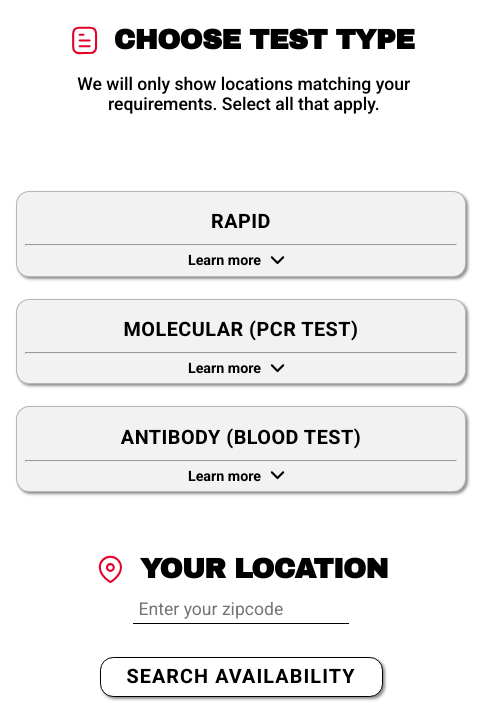
Scenario: SearchForm › doesnt submit if zip < 5 digits
Click the submit button. click: point(241, 677)
box: [100, 657, 382, 697]
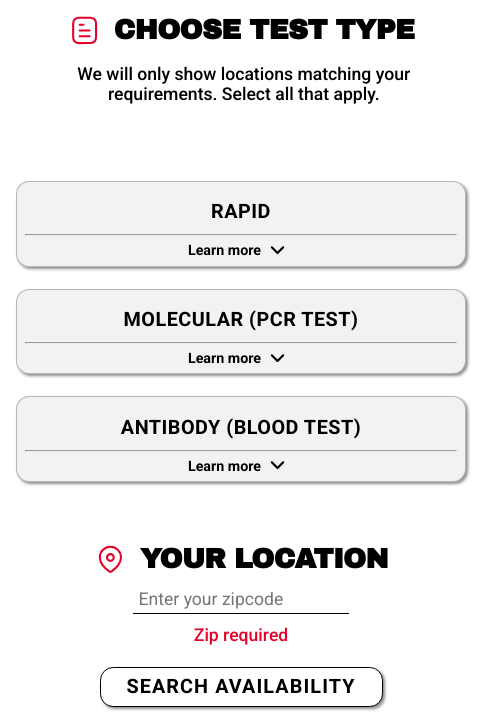
Expected: the text "Zip required" is shown, [194, 625, 288, 645]
